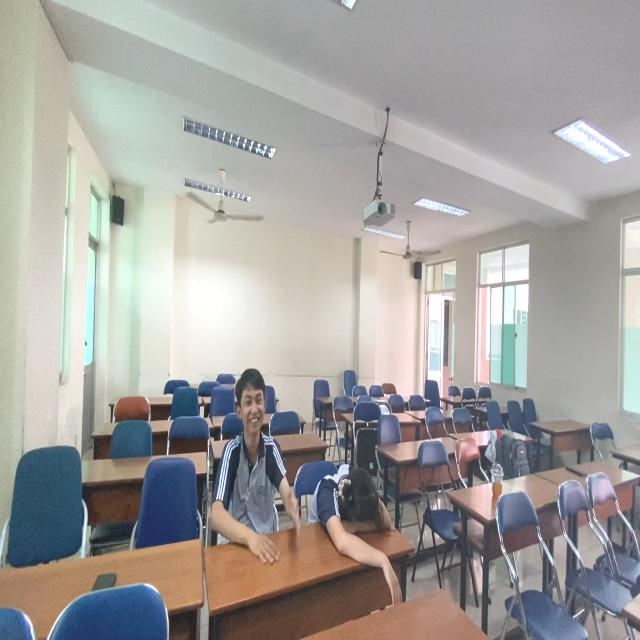sleep: (313, 454, 407, 587)
